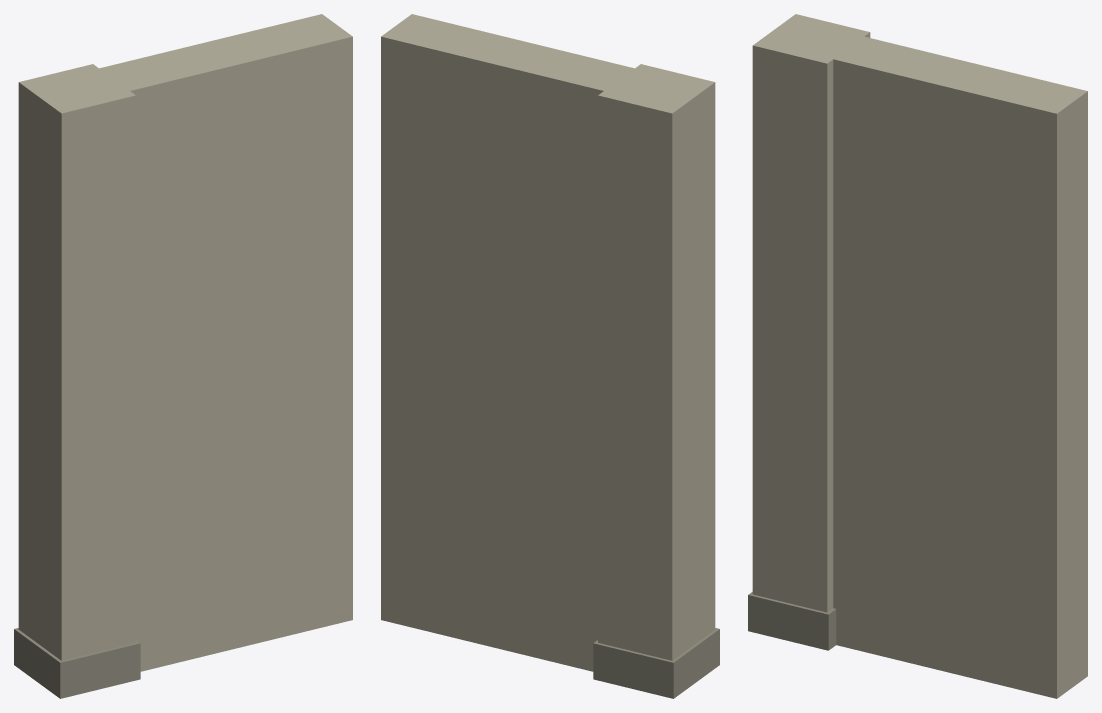
The model's file is keep_wall.glb.
3 views of the same model, side by side, from view 1: azimuth 30°, elevation 25°; view 2: azimuth 150°, elevation 25°; view 3: azimuth 330°, elevation 25° (orthographic).
Visible parts, largest first — view 1: Keep wall; view 2: Keep wall; view 3: Keep wall.
Part boxes in pixels (<box>): Keep wall: <box>14,14,352,698</box>; Keep wall: <box>381,14,719,698</box>; Keep wall: <box>748,14,1087,698</box>.
Size of the model in its own units: 1.01 by 1.88 by 0.27.
